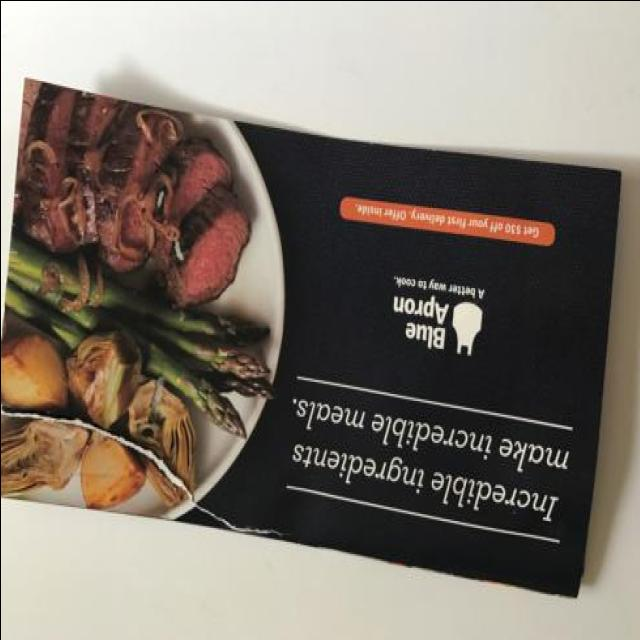kertas: (0, 69, 620, 601)
